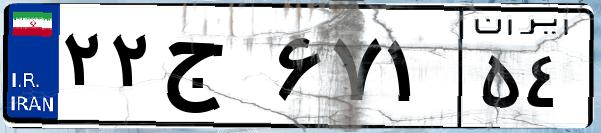1: (385, 28, 445, 110)
2: (57, 26, 110, 100), (110, 28, 158, 98)
4: (525, 38, 570, 115)
5: (475, 38, 525, 113)
6: (270, 28, 330, 110)
7: (330, 28, 385, 110)
ج: (158, 20, 270, 120)
